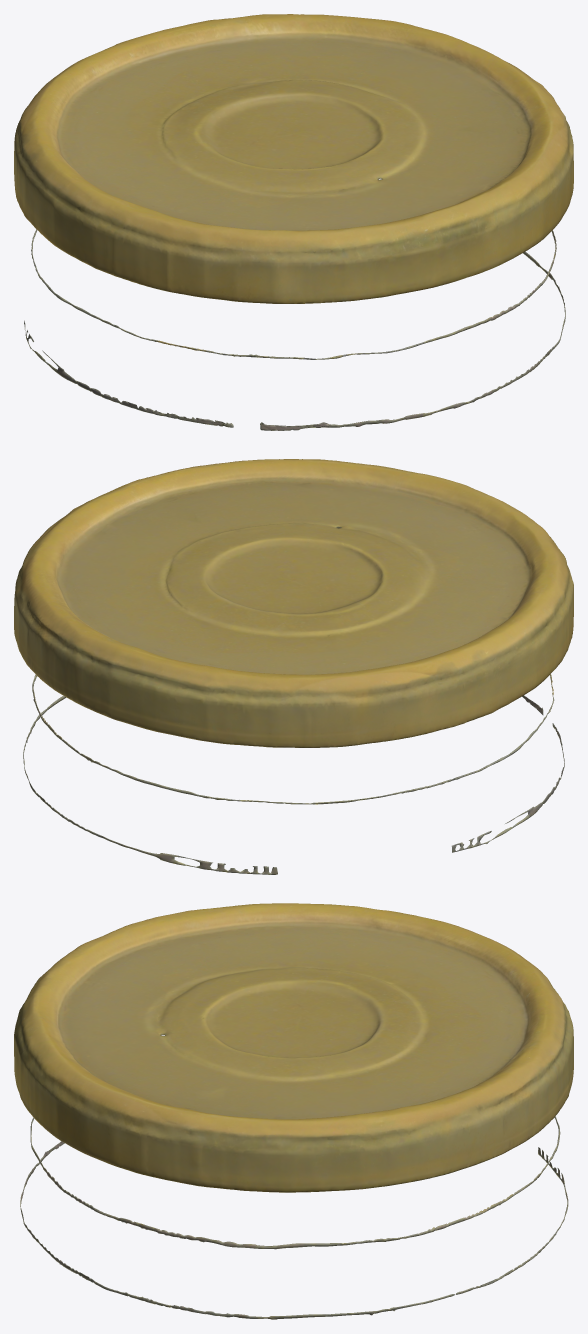
The model's file is Glass_Jar_0511132828_texture.glb.
3 views of the same model, one above another, from view 1: azimuth 30°, elevation 25°; view 2: azimuth 150°, elevation 25°; view 3: azimuth 270°, elevation 25° (orthographic).
Bounding box in the file's own units: 1.12 × 0.4354 × 1.12.
1 material, 1 textured.
